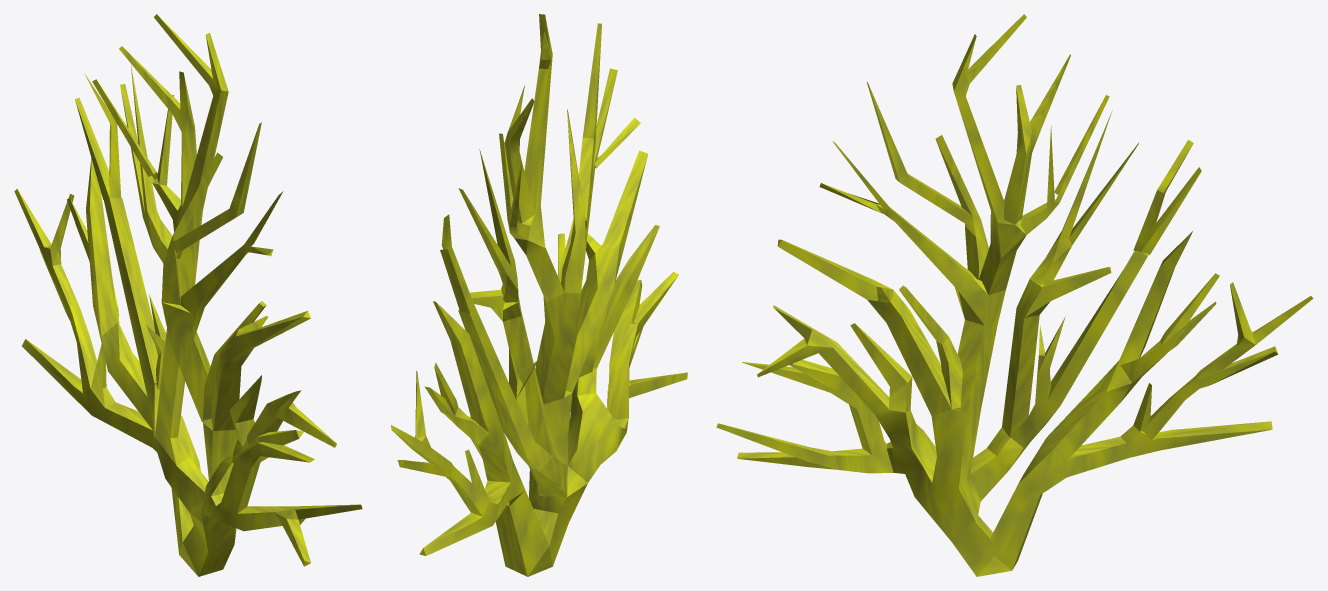
File: Coral4.obj
3 renders of one model, left to right at view 1: azimuth 30°, elevation 25°; view 2: azimuth 150°, elevation 25°; view 3: azimuth 270°, elevation 25°, orthographic. The views are drawn at different scales.
Visible parts, largest first — view 1: Coral4; view 2: Coral4; view 3: Coral4.
Part boxes in pixels (left/top/right/bottom): Coral4: left=14, top=14, right=362, bottom=576; Coral4: left=391, top=14, right=687, bottom=576; Coral4: left=716, top=14, right=1313, bottom=576.
Size of the model in its own units: 0.15 by 1.1 by 1.1.
Materials: 1 (1 with a texture image).
